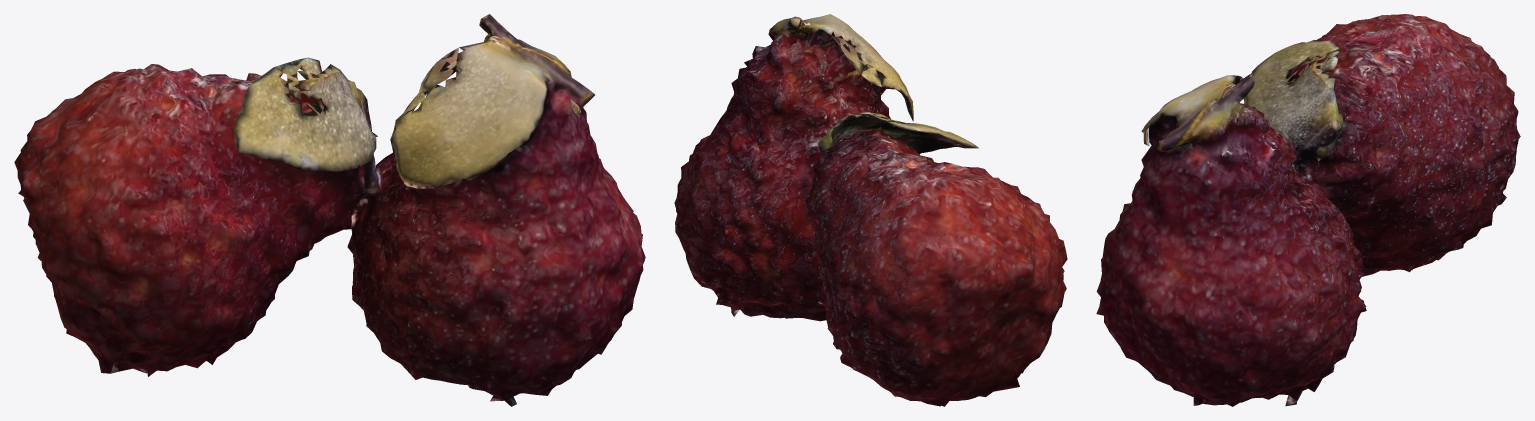
File: date-0.glb
3 renders of one model, left to right at view 1: azimuth 30°, elevation 25°; view 2: azimuth 150°, elevation 25°; view 3: azimuth 270°, elevation 25°, orthographic. The views are drawn at different scales.
Parts seen in each view (by area): view 1: Object_2; view 2: Object_2; view 3: Object_2.
Boxes of the visible parts, bbox=[...] form: Object_2: bbox=[14, 14, 645, 406]; Object_2: bbox=[674, 14, 1067, 406]; Object_2: bbox=[1096, 14, 1520, 406].
Size of the model in its own units: 33.38 by 21.93 by 27.31.
Materials: 1 (1 with a texture image).
